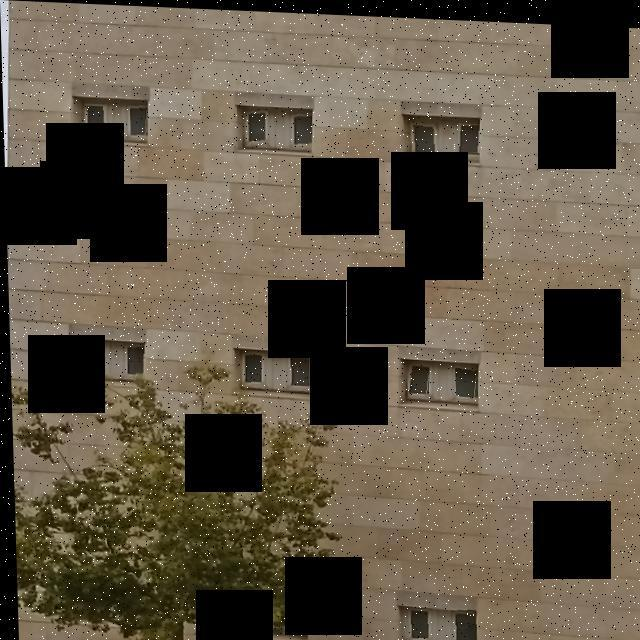Window: (404, 114, 440, 156), (238, 349, 266, 384), (245, 106, 268, 146), (448, 604, 473, 640), (290, 108, 313, 146), (403, 606, 429, 638), (454, 359, 476, 396), (76, 342, 102, 372), (458, 120, 483, 150), (406, 362, 428, 393), (127, 343, 146, 378), (129, 102, 148, 136), (85, 105, 106, 134), (285, 353, 306, 382)
